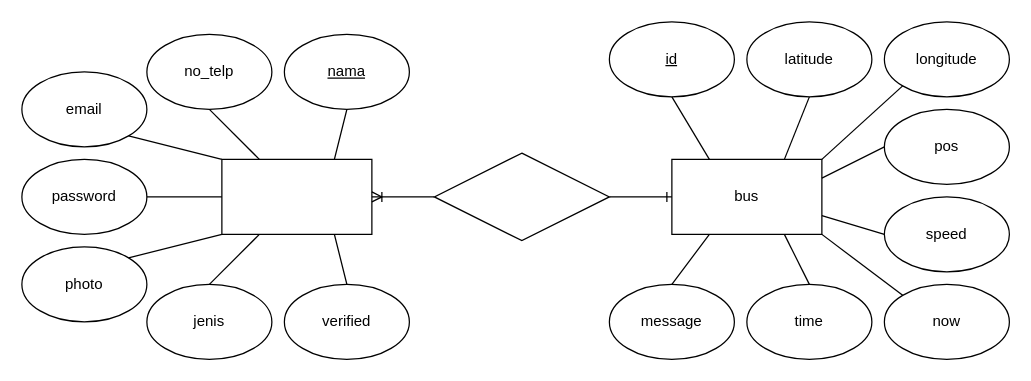
The diagram is 1031 pixels wide and 381 high, and some of its shapes have lost their labels. The box of each missing label's shape, as (x1, y1, x2, y2) in pixels:
antar: (433, 152, 609, 241)
user: (221, 158, 372, 234)
